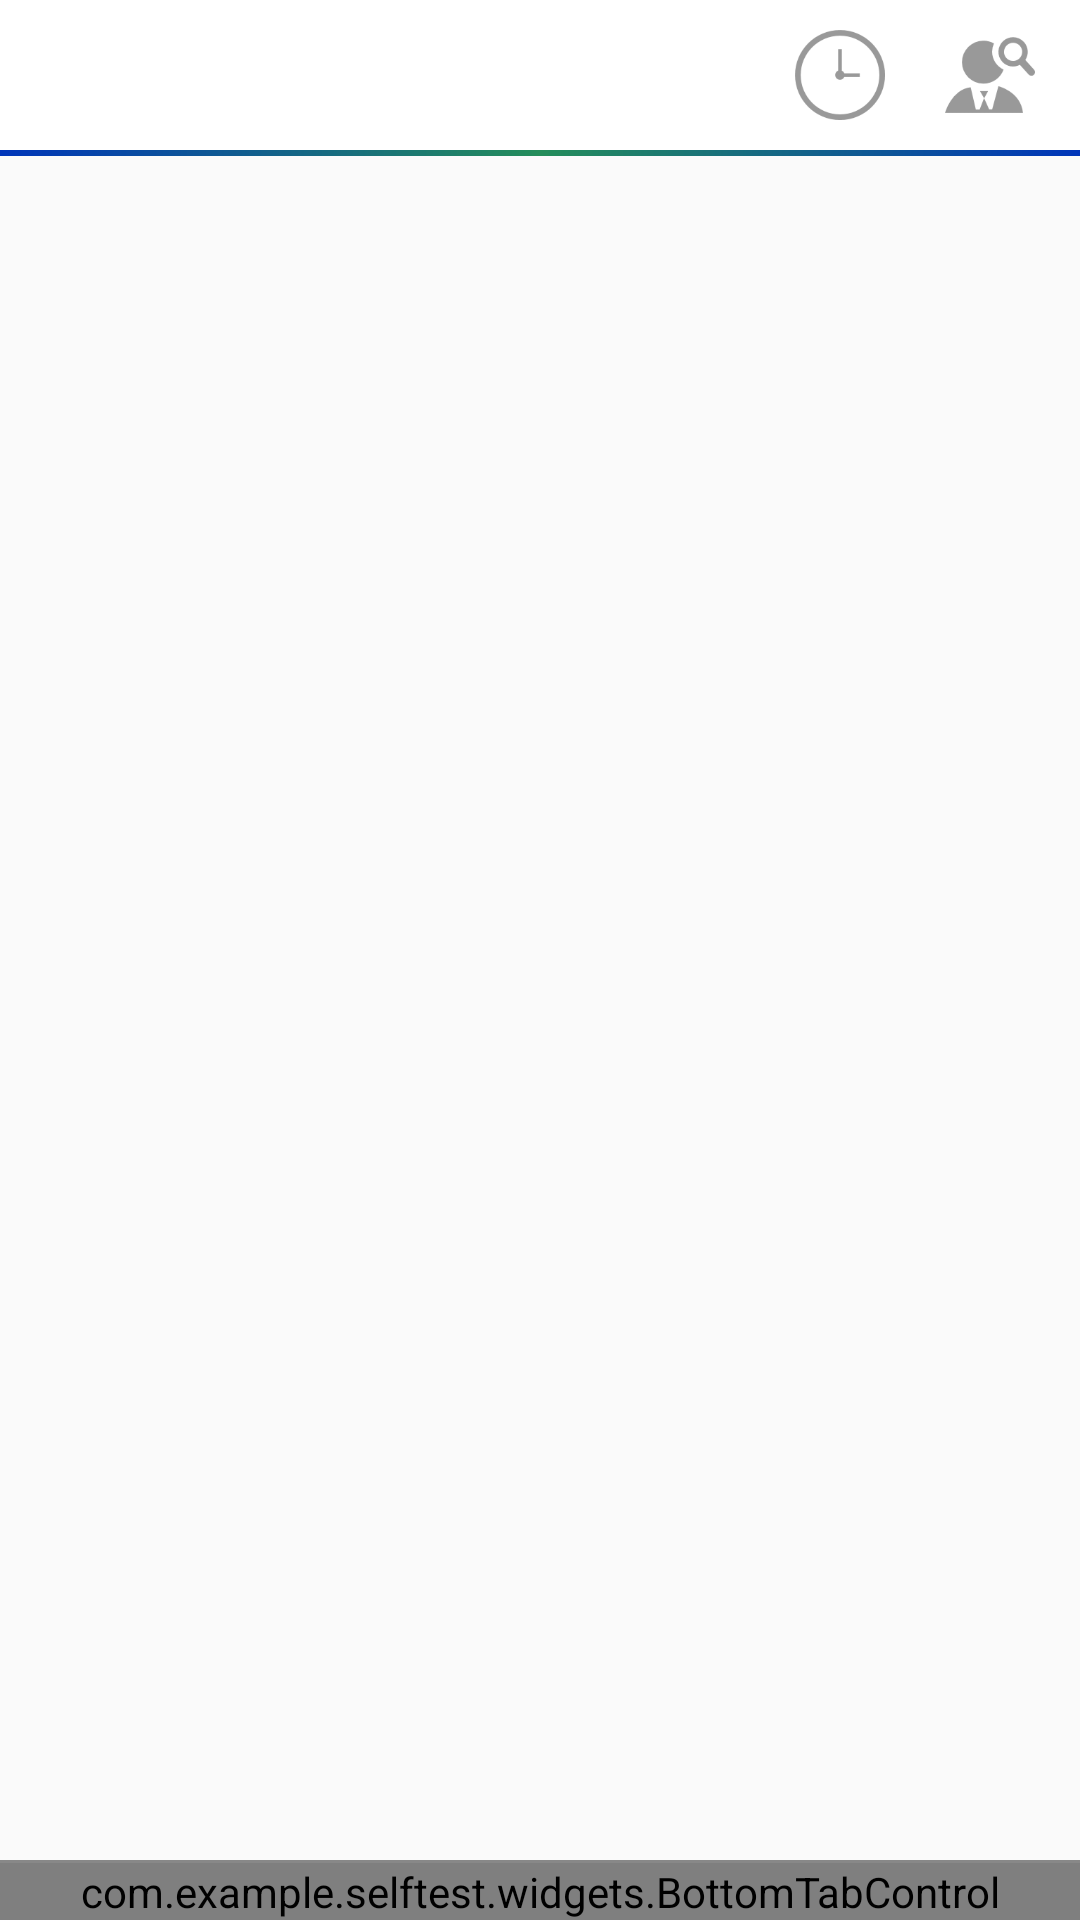

Named icons in this screenshot (1080×1920) and their bounding boxes, [x1=x1, y1=y1, x2=x2, y2=y2]:
clock: [x1=795, y1=30, x2=885, y2=120]
search: [x1=945, y1=37, x2=1035, y2=113]
